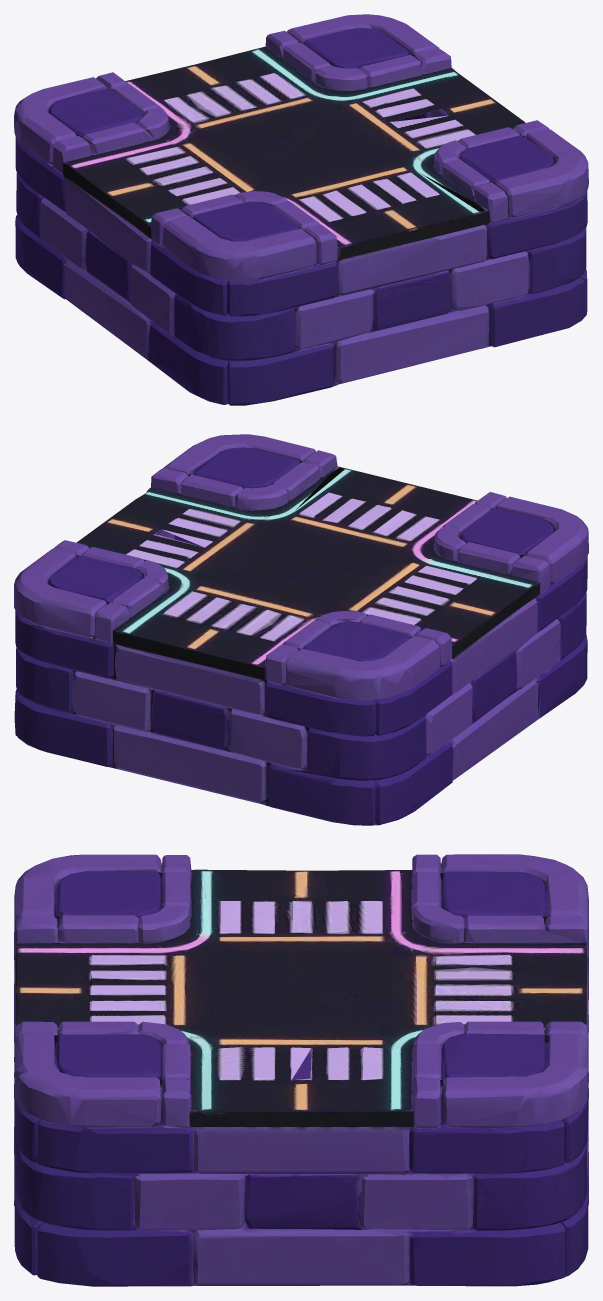
Rendered from tile-junction.glb.
3 renders of one model, top to bottom at view 1: azimuth 30°, elevation 25°; view 2: azimuth 150°, elevation 25°; view 3: azimuth 270°, elevation 25°, orthographic. The views are drawn at different scales.
Visible parts, largest first — view 1: output_unwrapped; view 2: output_unwrapped; view 3: output_unwrapped.
Boxes of the visible parts, x1,y1,x2,y2 form: output_unwrapped: [14, 14, 588, 405]; output_unwrapped: [14, 434, 588, 825]; output_unwrapped: [14, 854, 588, 1286].
Size of the model in its own units: 1.9 by 0.7144 by 1.9.
Materials: 1 (1 with a texture image).
